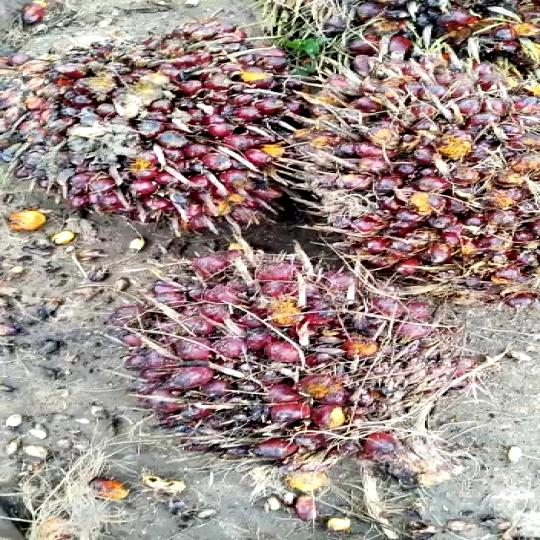masak: (118, 245, 464, 463), (263, 43, 540, 299), (0, 26, 300, 243)
